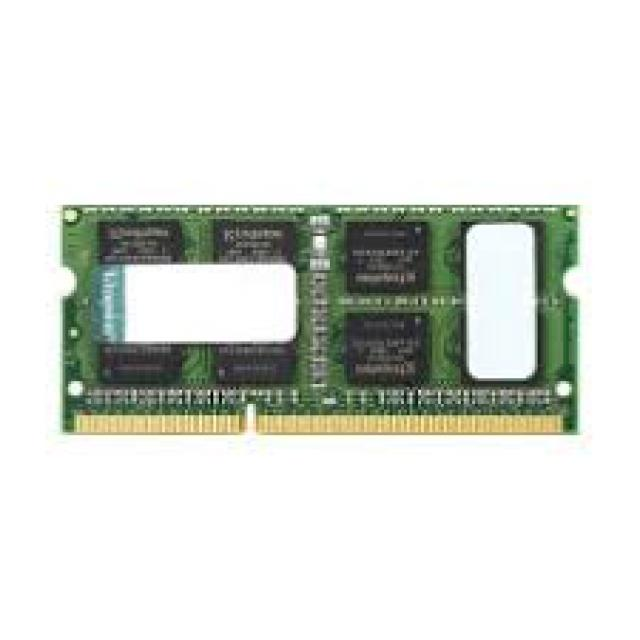Ram: (80, 114, 597, 489)
